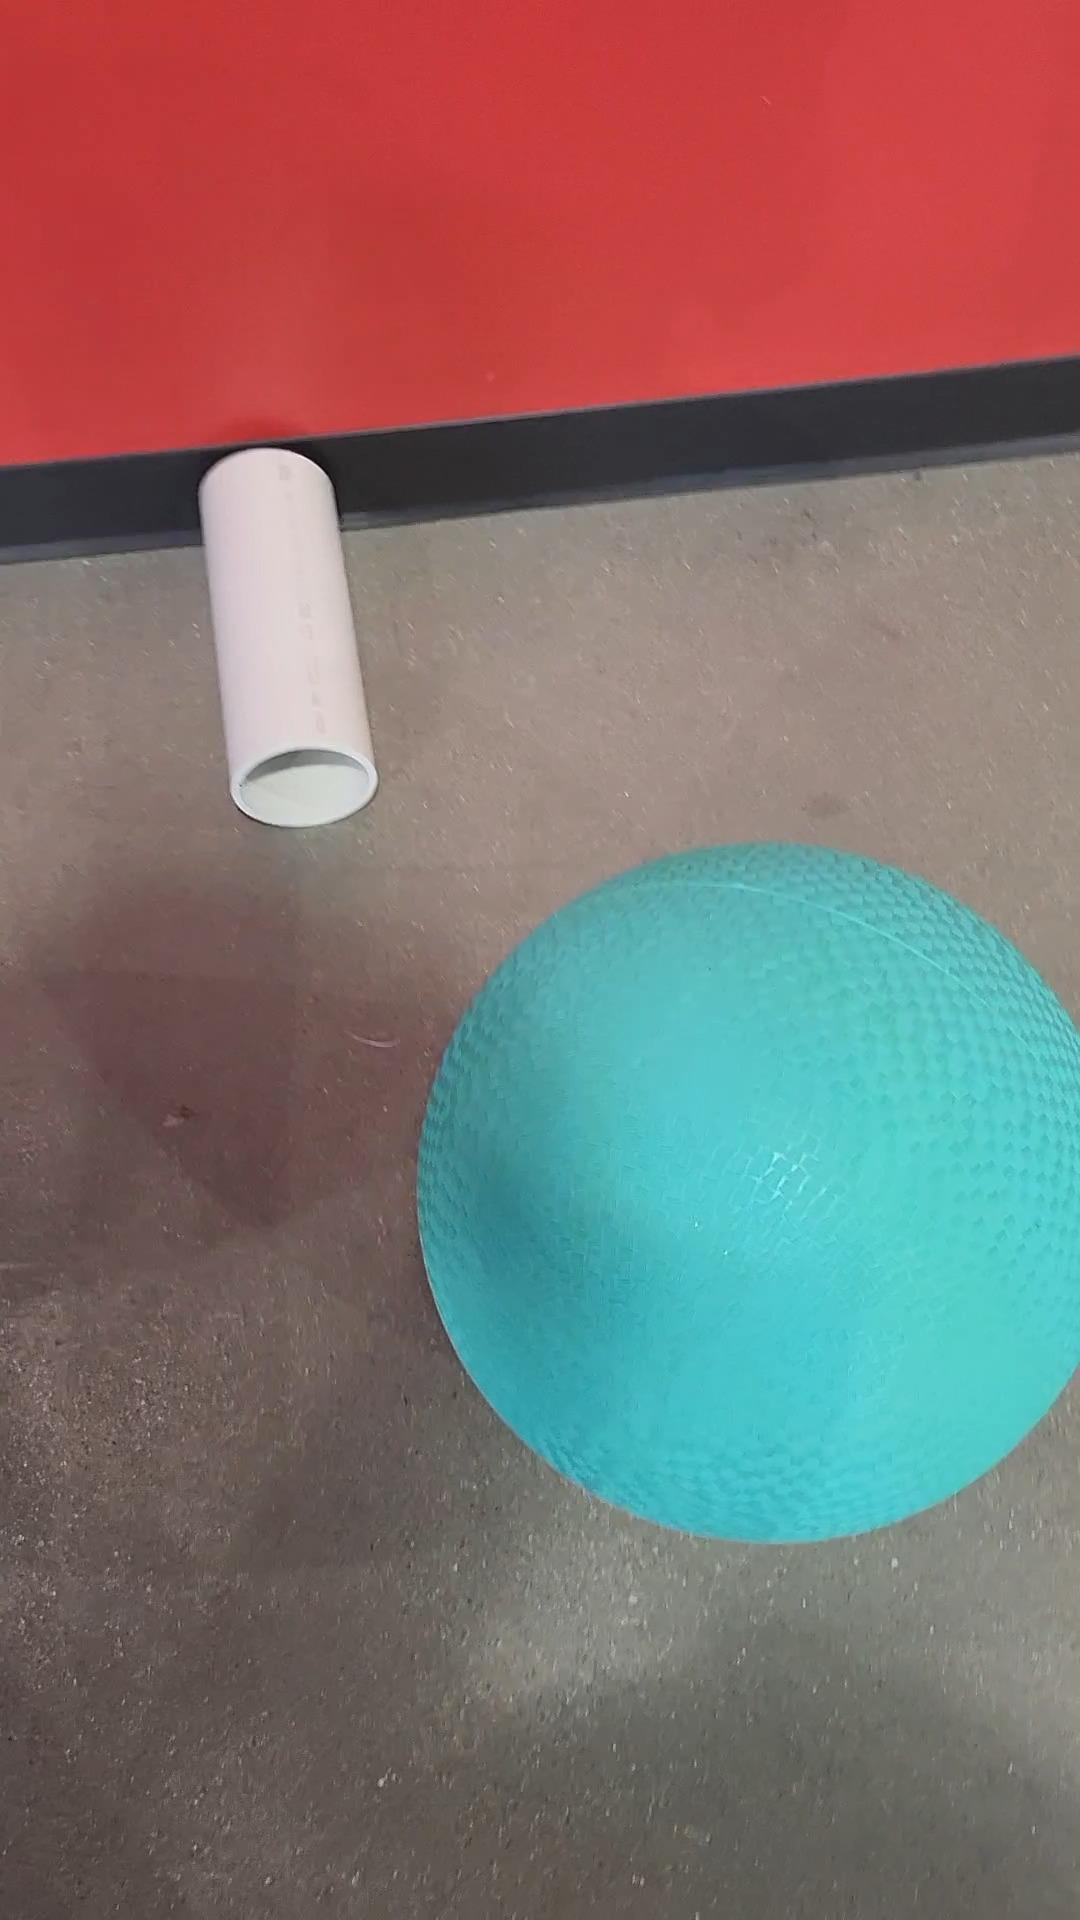algae: (363, 816, 1079, 1565)
coral: (171, 426, 394, 836)
